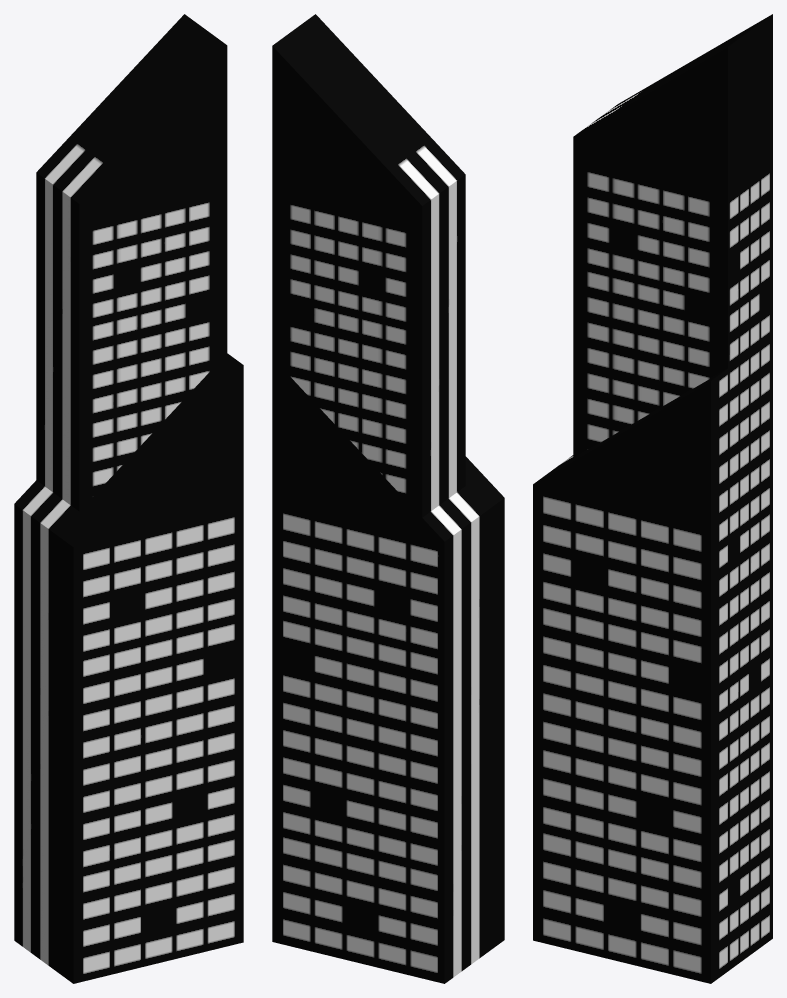
The model's file is building_04.FBX.
The picture shows the model from 3 angles, left to right: view 1: azimuth 30°, elevation 25°; view 2: azimuth 150°, elevation 25°; view 3: azimuth 330°, elevation 25°; orthographic projection. The views are drawn at different scales.
Parts seen in each view (by area): view 1: building_04; view 2: building_04; view 3: building_04.
Part boxes in pixels (x1,y1,x2,y2): building_04: (14,14,243,983); building_04: (272,14,504,983); building_04: (533,14,772,983).
Size of the model in its own units: 147 by 732 by 88.8.
